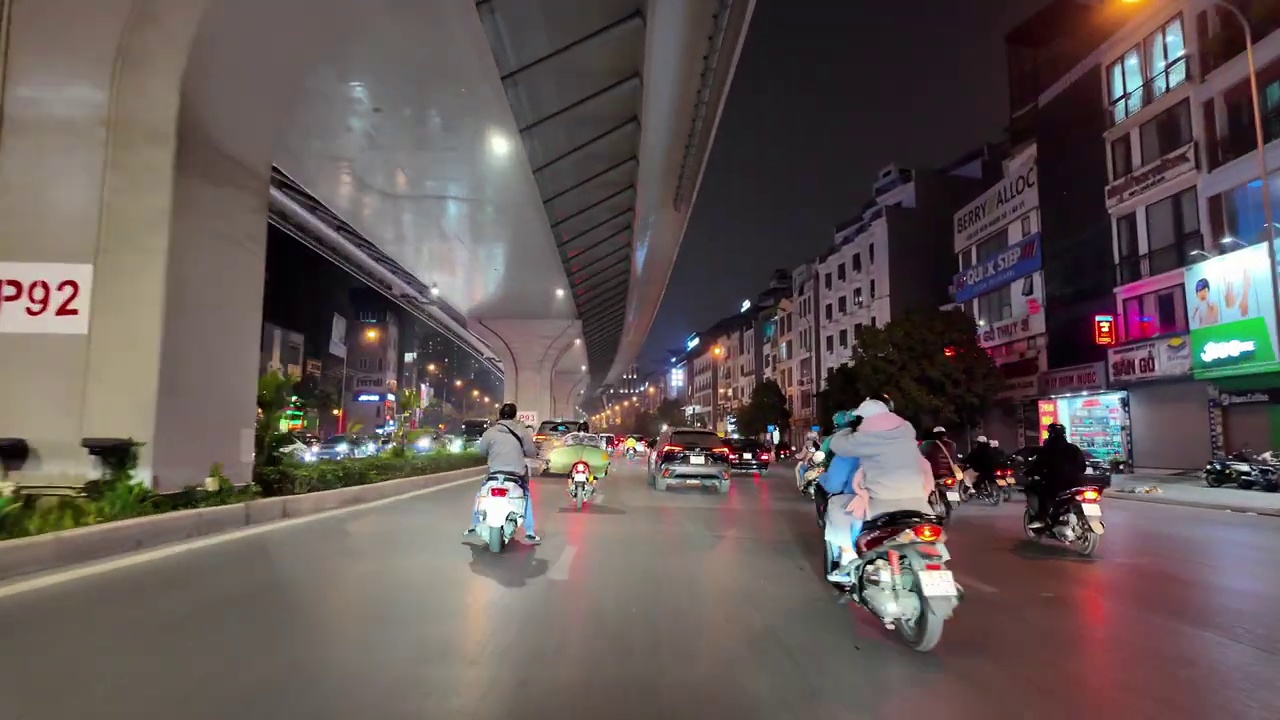acesa: (484, 130, 514, 161), (360, 328, 383, 347)
